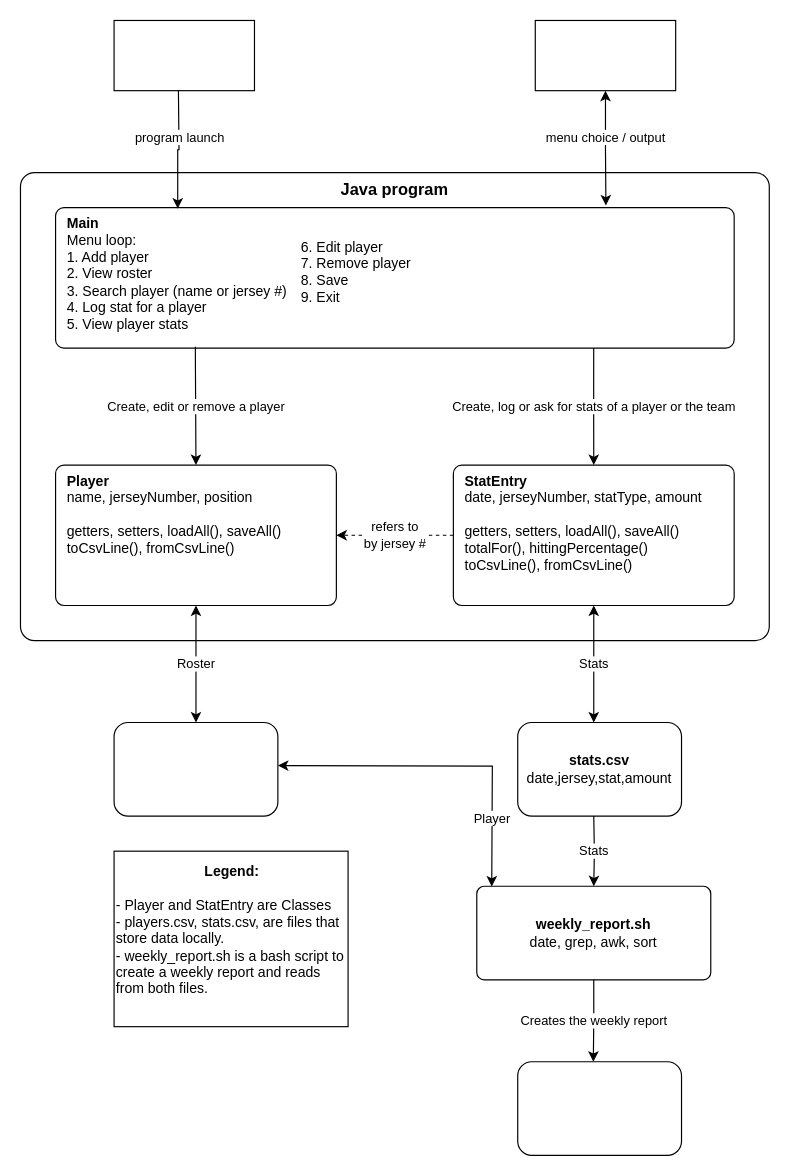
Image size: 790x1176. Some labels were removed from this diagram. The shapes that lost their labels are listed below. From the top down, each one's centre as x and y in pixels, then its label:
the point at 183,55: Start java Main
the point at 605,55: User types menu choices
the point at 195,768: players.csv jersey,name,position
the point at 599,1108: Weekly_Report.txt Stats for all players
